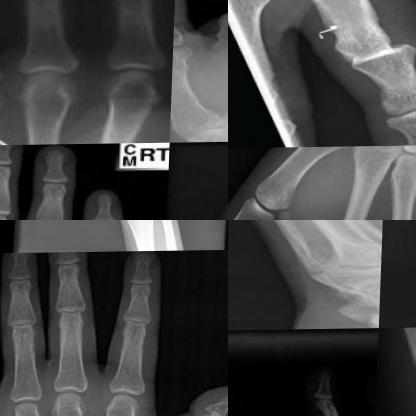fracture: (331, 22, 415, 80)
